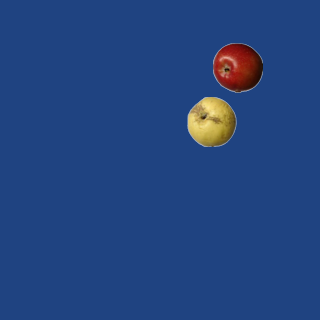Apple Braeburn: (212, 42, 262, 92)
Apple Golden 1: (186, 96, 236, 146)
